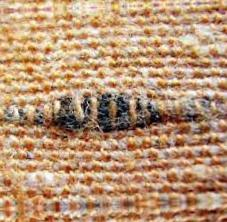slub: (2, 92, 199, 134)
